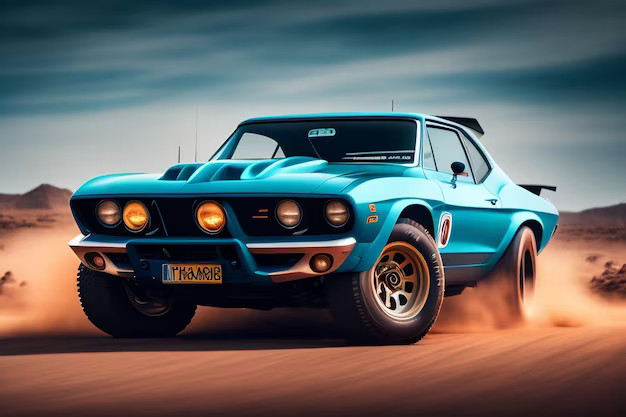car: (65, 109, 562, 343)
